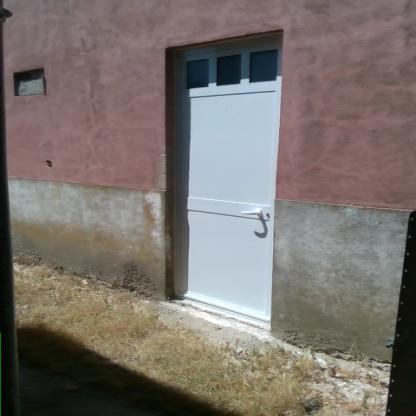closed: (157, 27, 291, 322)
